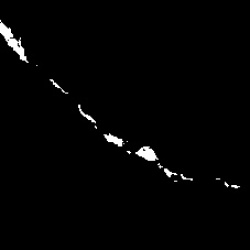crack: (135, 147, 194, 183), (0, 20, 29, 63), (73, 105, 95, 123), (49, 79, 69, 95), (214, 178, 239, 188), (103, 136, 123, 146)
